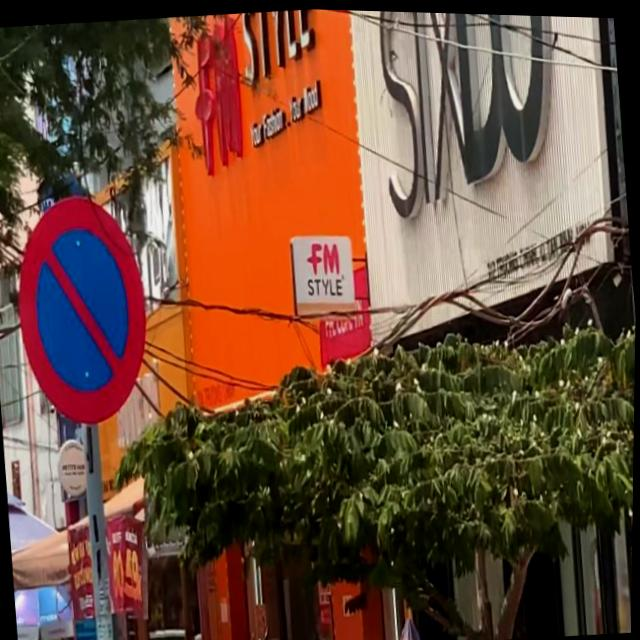Cam do xe: (7, 184, 161, 428)
